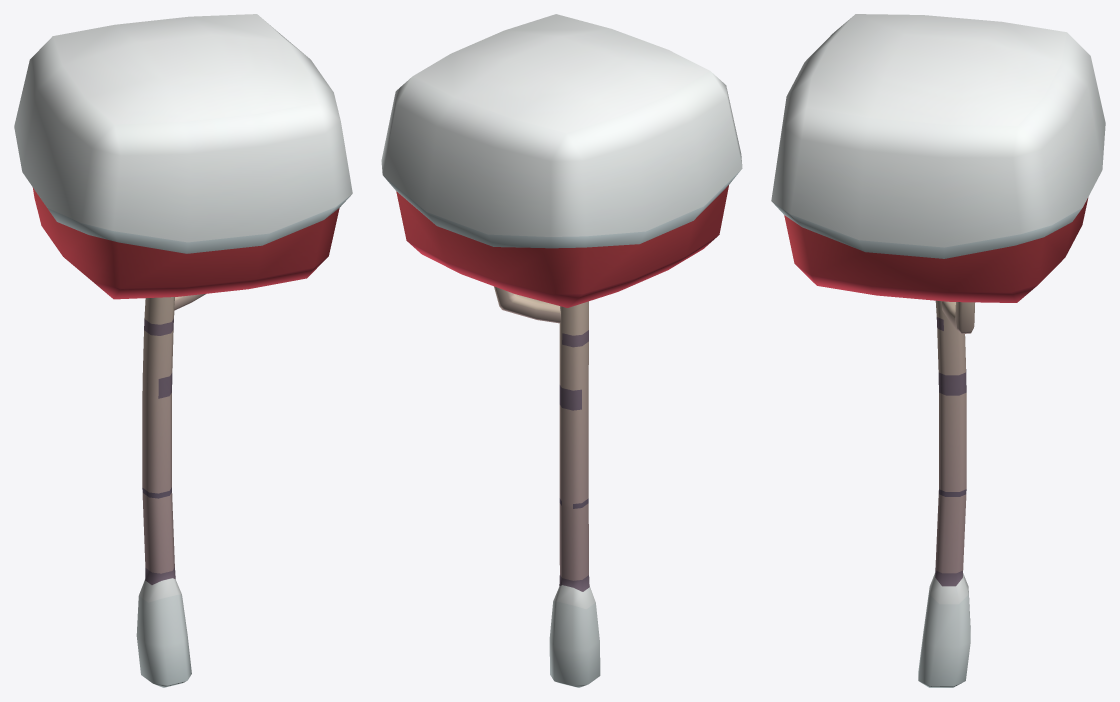
The model's file is birch_tree_SC_08_snow.fbx.
The picture shows the model from 3 angles, left to right: view 1: azimuth 30°, elevation 25°; view 2: azimuth 150°, elevation 25°; view 3: azimuth 270°, elevation 25°; orthographic projection. The views are drawn at different scales.
Parts seen in each view (by area): view 1: birch_tree_SC_08_snow; view 2: birch_tree_SC_08_snow; view 3: birch_tree_SC_08_snow.
Boxes of the visible parts, x1,y1,x2,y2 form: birch_tree_SC_08_snow: (14, 14, 352, 687); birch_tree_SC_08_snow: (381, 14, 742, 687); birch_tree_SC_08_snow: (771, 14, 1105, 687).
Size of the model in its own units: 296 by 621 by 295.
Materials: 1 (1 with a texture image).
